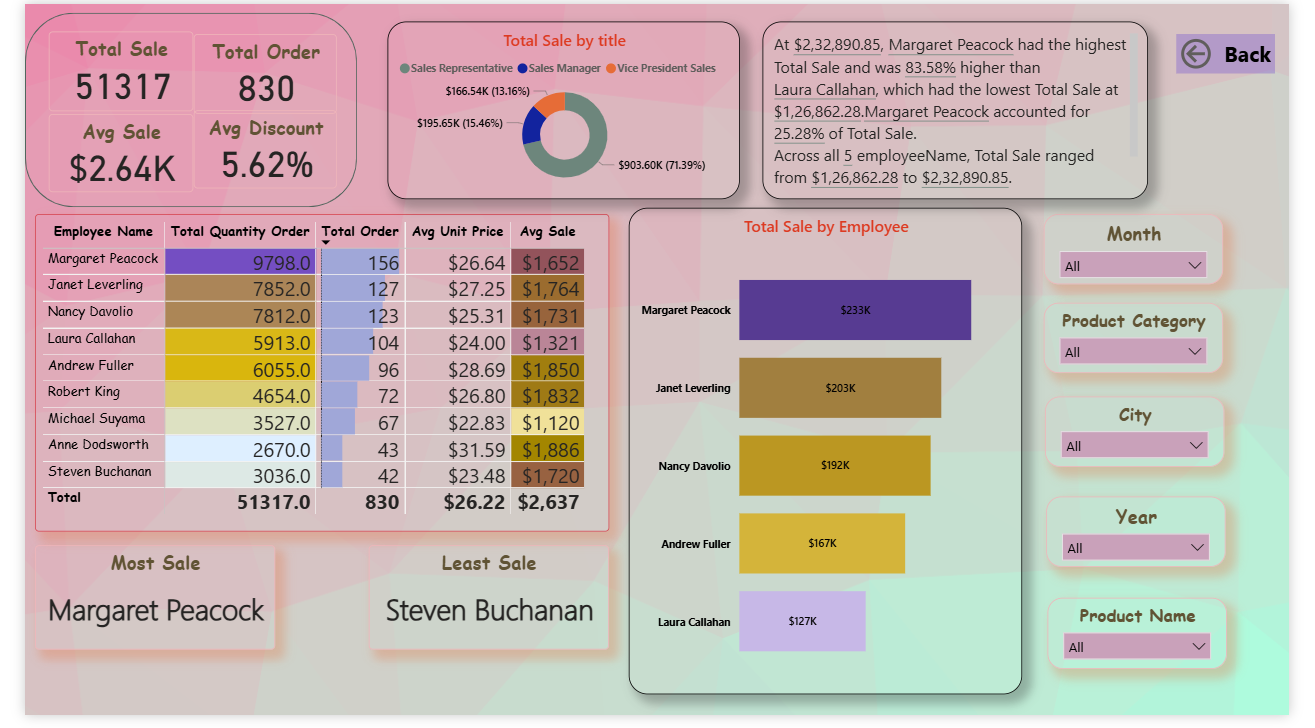

This screenshot's page, from the dashboard's own definition file:
{"tool":"powerbi","page":{"name":"Employee Insight","canvas":[1280,720],"ordinal":3},"visuals":[{"type":"group","id":"g1","title":"Group 1","box":[0,8.6,336.3,196.9],"z":0},{"type":"card","title":"Total Order","fields":{"Values":["All Measures.Total Order"]},"box":[171,30.2,145.1,80.5],"z":0,"group":"g1"},{"type":"card","title":"Avg Sale","fields":{"Values":["All Measures.Avg Sale"]},"box":[24.4,110.6,146.6,79],"z":1000,"group":"g1"},{"type":"pivotTable","fields":{"Values":["All Measures.Total Quantity Order","All Measures.Total Order","All Measures.Avg Unit Price","All Measures.Avg Sale"],"Rows":["employees.employeeName"]},"box":[10,212.9,581.4,321.4],"z":1000},{"type":"card","title":"Avg Discount","fields":{"Values":["All Measures.Avg Discount"]},"box":[171,107.8,145.1,79],"z":2000,"group":"g1"},{"type":"barChart","fields":{"Category":["employees.employeeName"],"Y":["All Measures.Total Sale"]},"box":[611.4,205.7,398.6,492.9],"z":2000},{"type":"pieChart","fields":{"Category":["employees.title"],"Y":["All Measures.Total Sale"]},"box":[367.1,17.1,357.1,180],"z":3000},{"type":"card","title":"Total Sale","fields":{"Values":["All Measures.Total Quantity Order"]},"box":[24.4,27.3,146.6,80.5],"z":3000,"group":"g1"},{"type":"shape","box":[0,8.6,336.3,196.9],"z":4000,"group":"g1"},{"type":"card","title":"Most Sale","fields":{"Values":["employees.employeeName"]},"box":[10,548.6,242.9,105.7],"z":4000},{"type":"card","title":"Least Sale","fields":{"Values":["employees.employeeName"]},"box":[348.6,548.6,242.9,105.7],"z":5000},{"type":"slicer","title":"Year","fields":{"Values":["orders.Order_Year"]},"box":[1034.3,498.6,181.4,71.4],"z":6000},{"type":"slicer","title":"Month","fields":{"Values":["orders.Month Name"]},"box":[1031.4,212.9,181.4,71.4],"z":7000},{"type":"slicer","title":"Product Category","fields":{"Values":["categories.categoryName"]},"box":[1031.4,302.9,181.4,71.4],"z":8000},{"type":"slicer","title":"City","fields":{"Values":["customers.city"]},"box":[1032.9,397.1,181.4,71.4],"z":9000},{"type":"textbox","box":[747.1,17.1,390,180],"z":10000},{"type":"actionButton","box":[1165.7,30,100,40],"z":11000},{"type":"slicer","title":"Product Name","fields":{"Values":["products.productName"]},"box":[1035,601.7,181.7,71.7],"z":12000}]}

Visuals, with their boxes in screenshot pixels (x1, y1, x2, y2), scaled from the page's 1280x720 canvas onto the 1315x728 screenshot:
"Group 1" group: box=[0, 9, 345, 208]
"Total Order" card: box=[176, 31, 325, 112]
"Avg Sale" card: box=[25, 112, 176, 192]
pivotTable - All Measures.Total Quantity Order x All Measures.Total Order: box=[10, 215, 608, 540]
"Avg Discount" card: box=[176, 109, 325, 189]
barChart - employees.employeeName x All Measures.Total Sale: box=[628, 208, 1038, 706]
pieChart - employees.title x All Measures.Total Sale: box=[377, 17, 744, 199]
"Total Sale" card: box=[25, 28, 176, 109]
shape: box=[0, 9, 345, 208]
"Most Sale" card: box=[10, 555, 260, 662]
"Least Sale" card: box=[358, 555, 608, 662]
"Year" slicer: box=[1063, 504, 1249, 576]
"Month" slicer: box=[1060, 215, 1246, 287]
"Product Category" slicer: box=[1060, 306, 1246, 378]
"City" slicer: box=[1061, 402, 1248, 474]
textbox: box=[768, 17, 1168, 199]
actionButton: box=[1198, 30, 1300, 71]
"Product Name" slicer: box=[1063, 608, 1250, 681]
